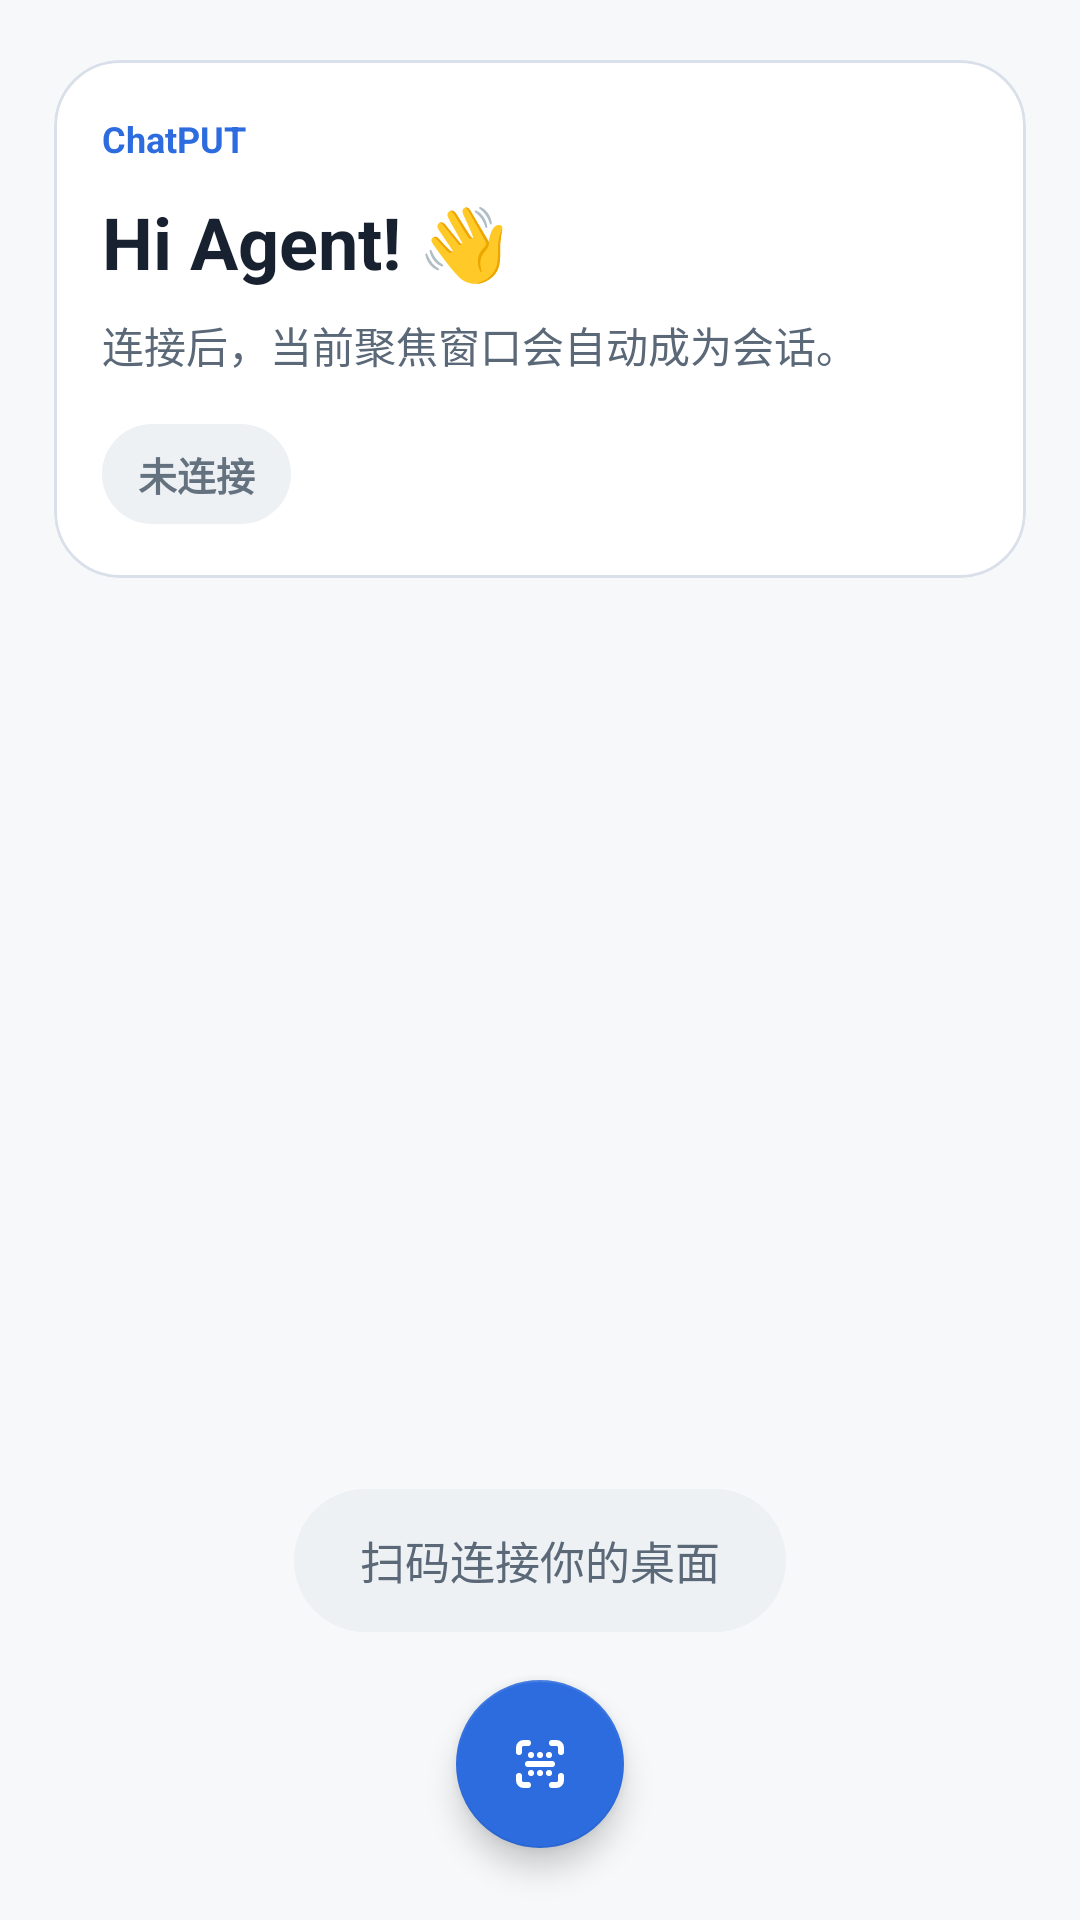

Icon bounding boxes for this 1080*1920 phone screenshot, format BBox(x1, y1, x2, y2):
扫码配对: BBox(456, 1680, 624, 1848)
